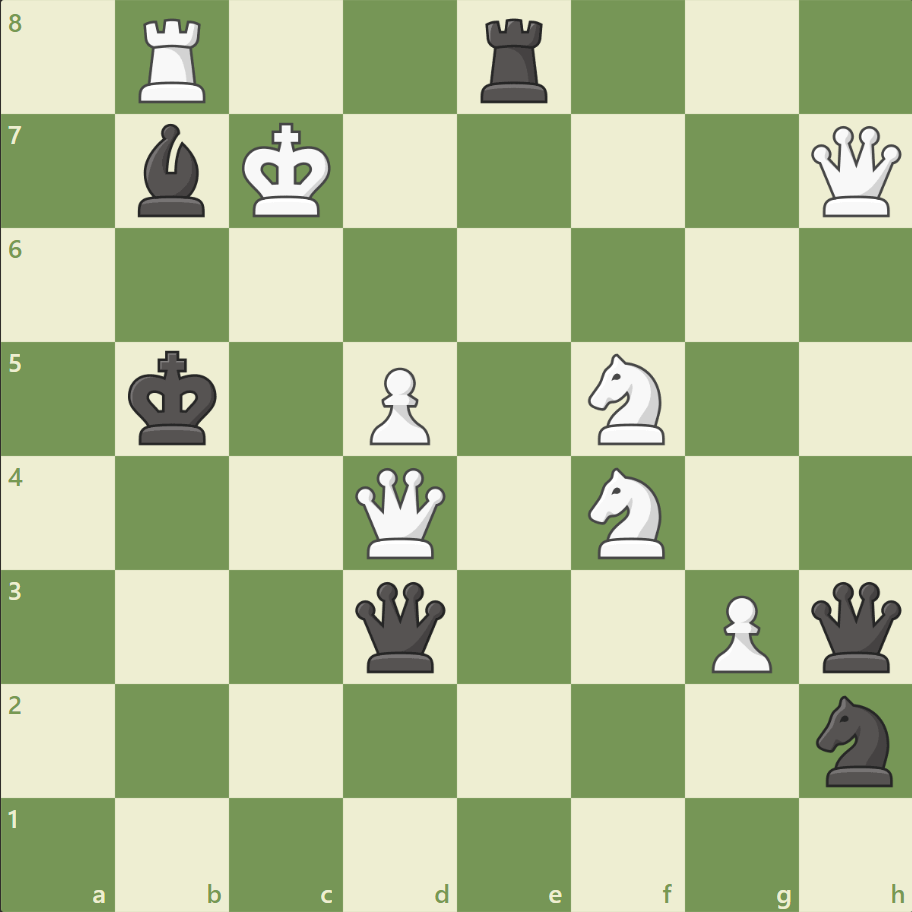K: (238, 117, 338, 225)
N: (579, 461, 676, 564), (579, 348, 676, 450)
P: (701, 586, 776, 677), (361, 359, 435, 450)
Q: (805, 122, 904, 222), (351, 463, 450, 562)
R: (133, 12, 215, 109)
b: (131, 120, 215, 222)
k: (124, 344, 224, 452)
n: (806, 688, 903, 791)
q: (351, 576, 450, 676), (805, 576, 904, 676)
r: (473, 12, 556, 109)
